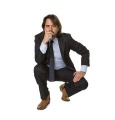male: (40, 13, 62, 38)
